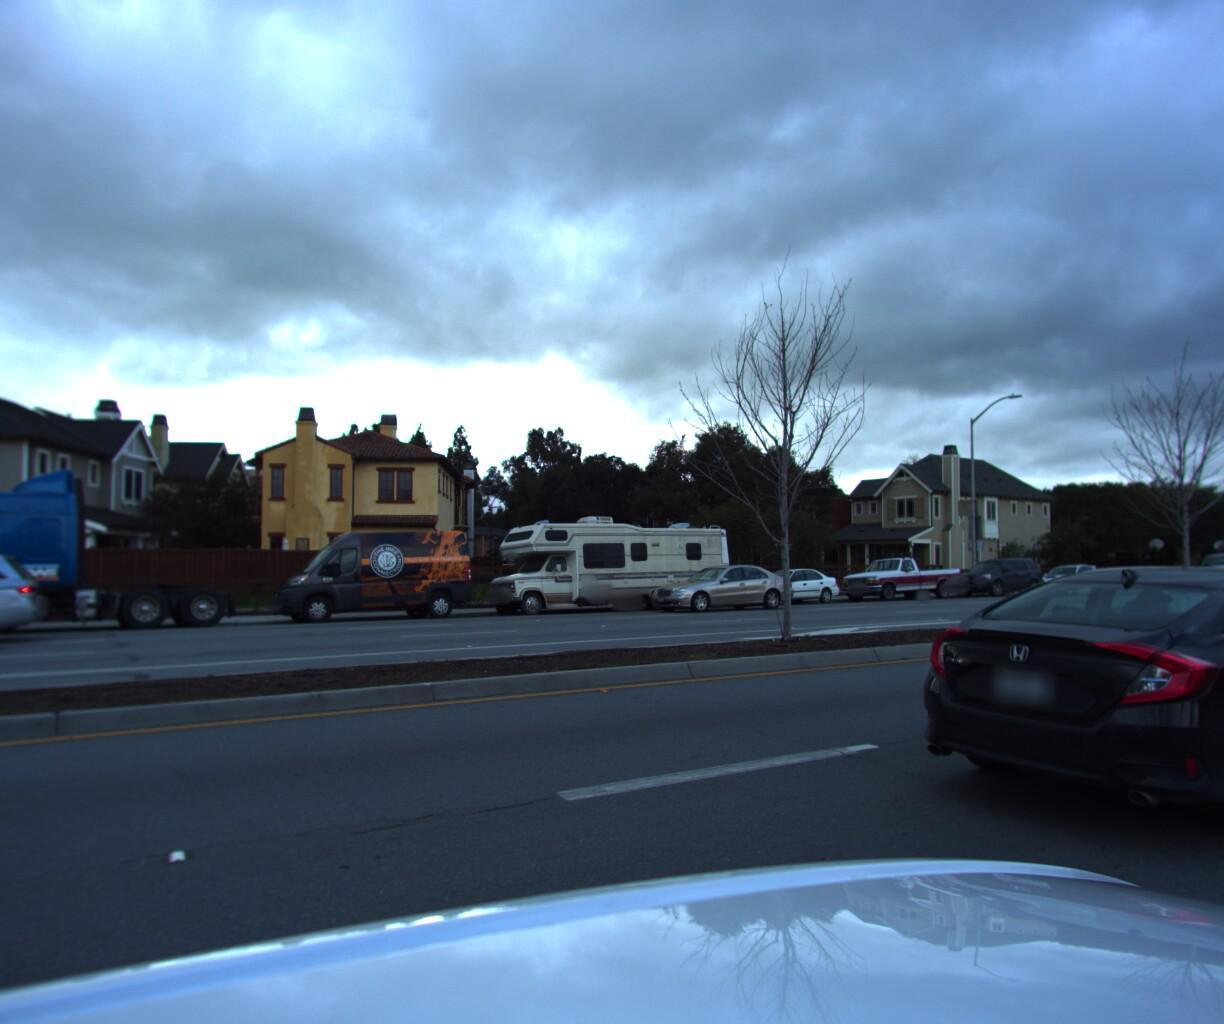car: (869, 554, 1224, 883), (256, 520, 473, 624), (646, 560, 801, 614), (832, 545, 963, 599), (0, 551, 44, 661), (730, 563, 843, 604), (944, 551, 1046, 594), (1022, 558, 1108, 592), (1180, 545, 1224, 583)
other_vehicle: (475, 501, 734, 614)
truck: (0, 451, 242, 648)
